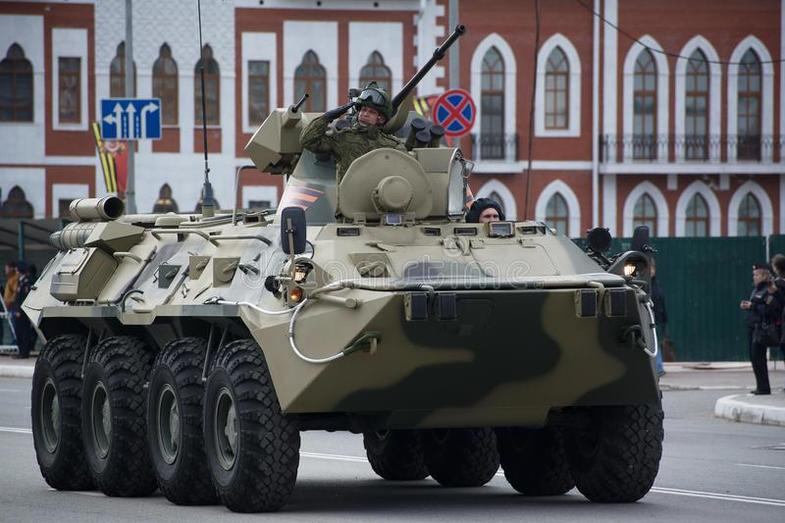btr: (22, 114, 667, 504)
